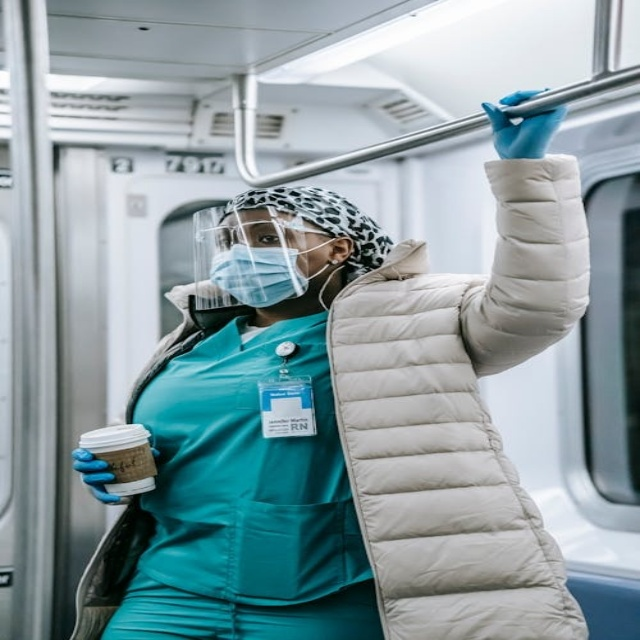Gafas: (202, 219, 335, 252)
Guantes: (480, 86, 568, 161), (67, 439, 160, 507)
Mascara: (210, 239, 306, 313)
